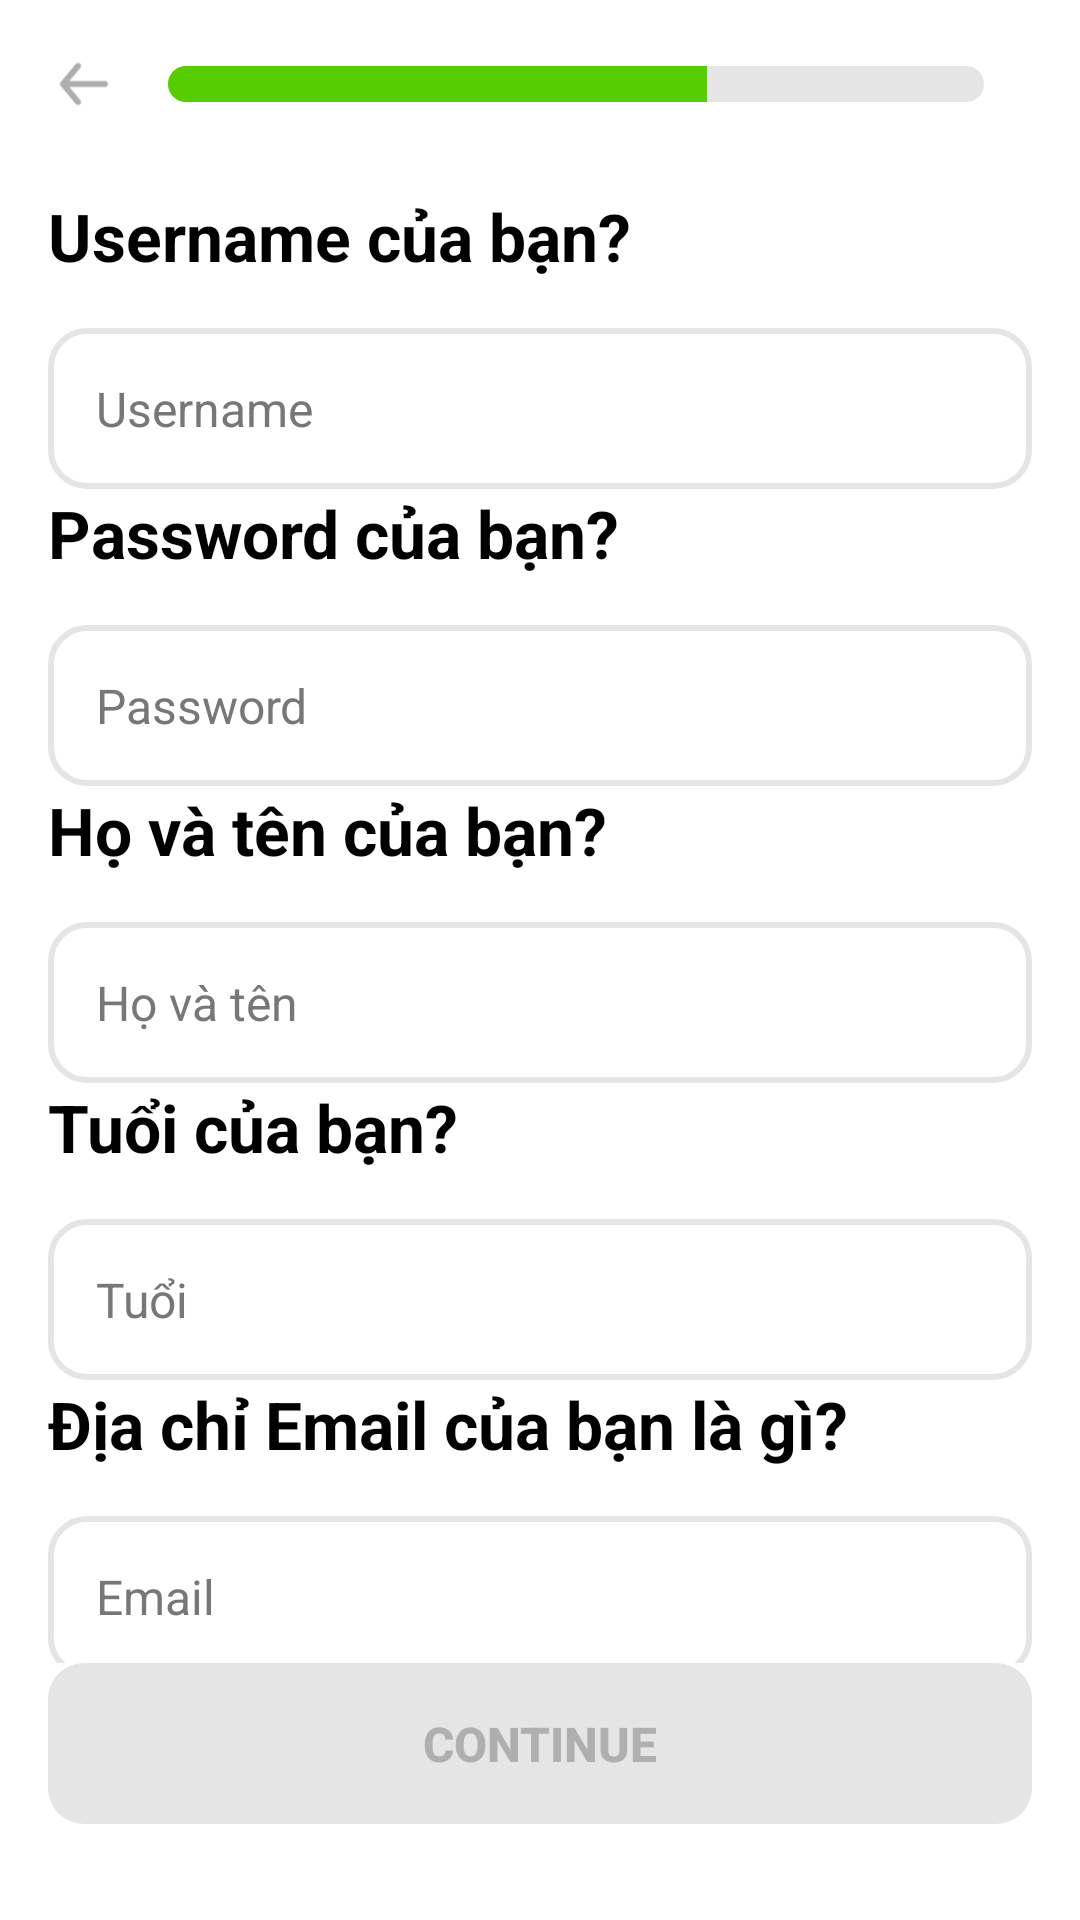

Point at icon controls on the screen. Image size 1080×1920, points as (x,y).
back arrow: (84,84)
